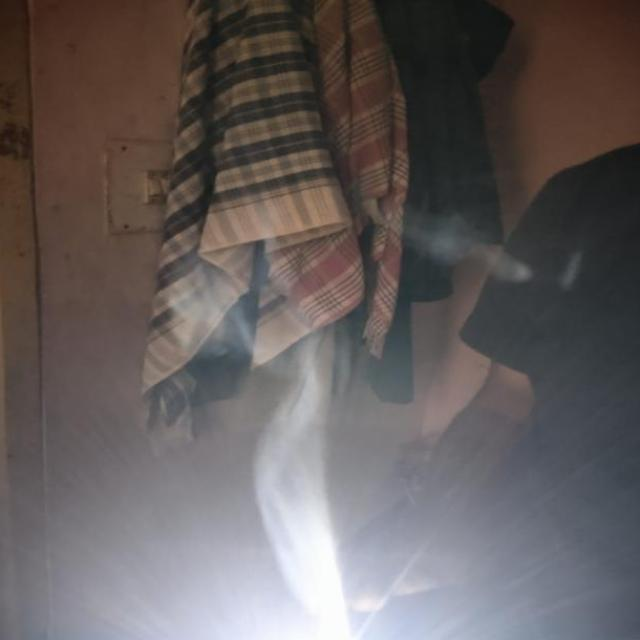fire: (248, 322, 364, 628)
